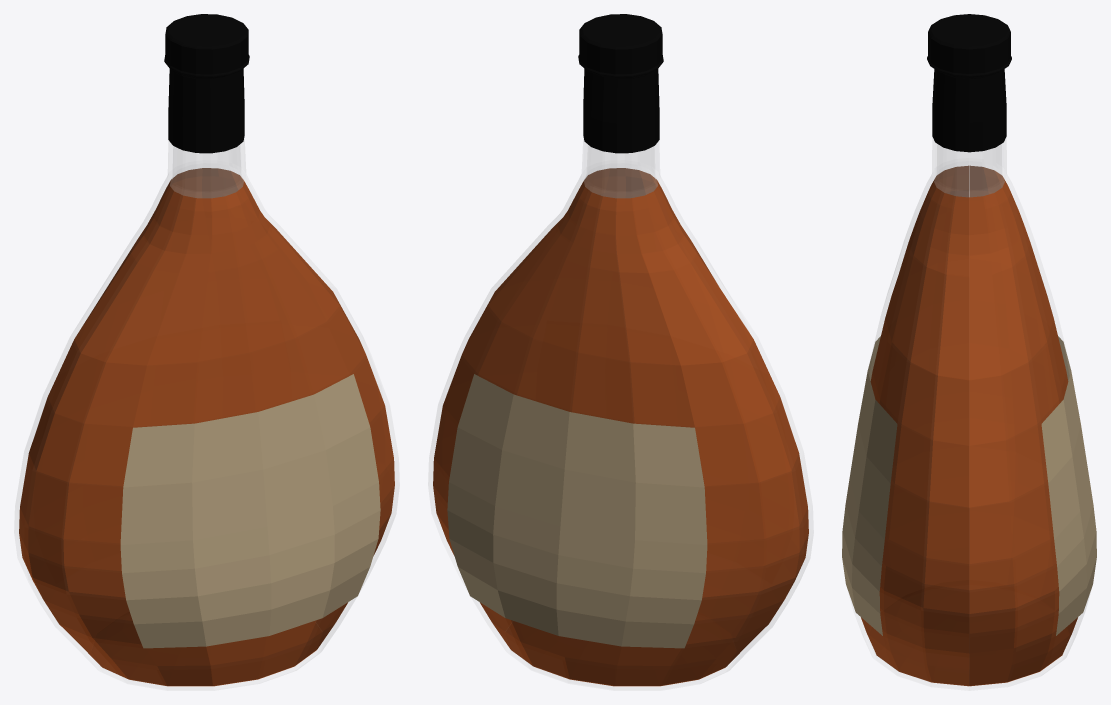
The model's file is Bottle_2.fbx.
3 renders of one model, left to right at view 1: azimuth 30°, elevation 25°; view 2: azimuth 150°, elevation 25°; view 3: azimuth 270°, elevation 25°, orthographic.
Visible parts, largest first — view 1: Bottle2.001; view 2: Bottle2.001; view 3: Bottle2.001.
Boxes of the visible parts, x1,y1,x2,y2 form: Bottle2.001: [14, 14, 399, 690]; Bottle2.001: [428, 14, 813, 690]; Bottle2.001: [842, 14, 1096, 690].
Bounding box in the file's own units: 57.91 × 93.27 × 35.32.
